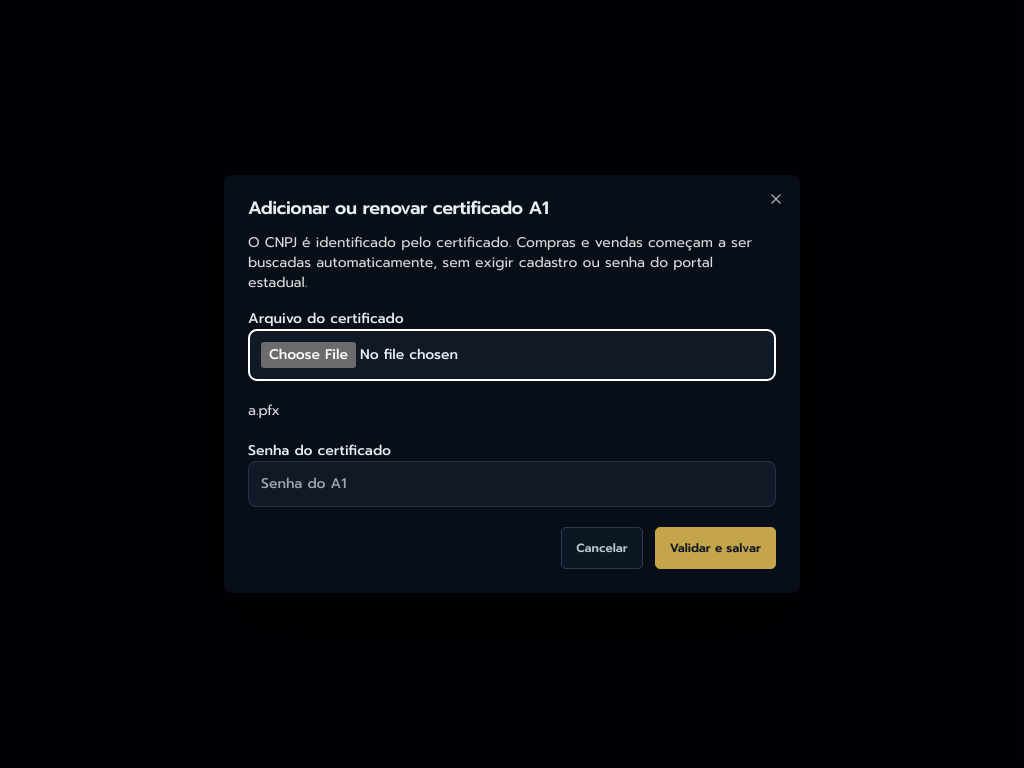
Test: extrator: importação e conta › arquivo grande é bloqueado localmente
Earlier steps of the test are not shown.
In the password field labelled "Senha do certificado": (512, 484) left=248, top=461, right=776, bottom=507, type "test"
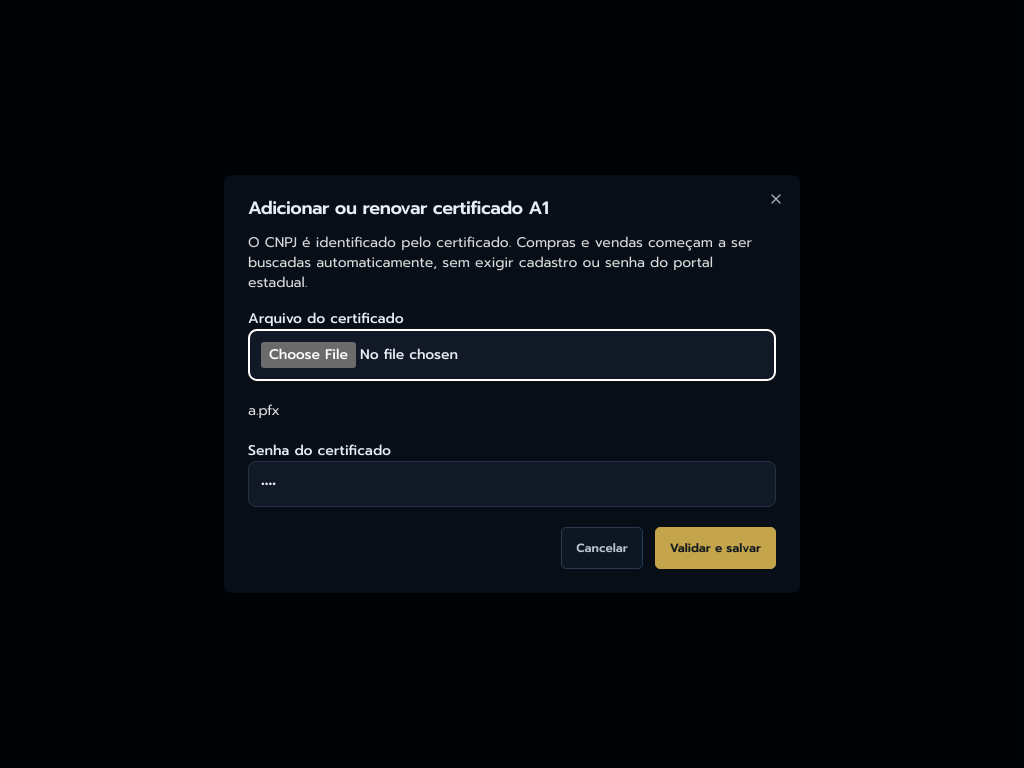
Click the button "Validar e salvar": click(715, 548) left=655, top=527, right=776, bottom=569
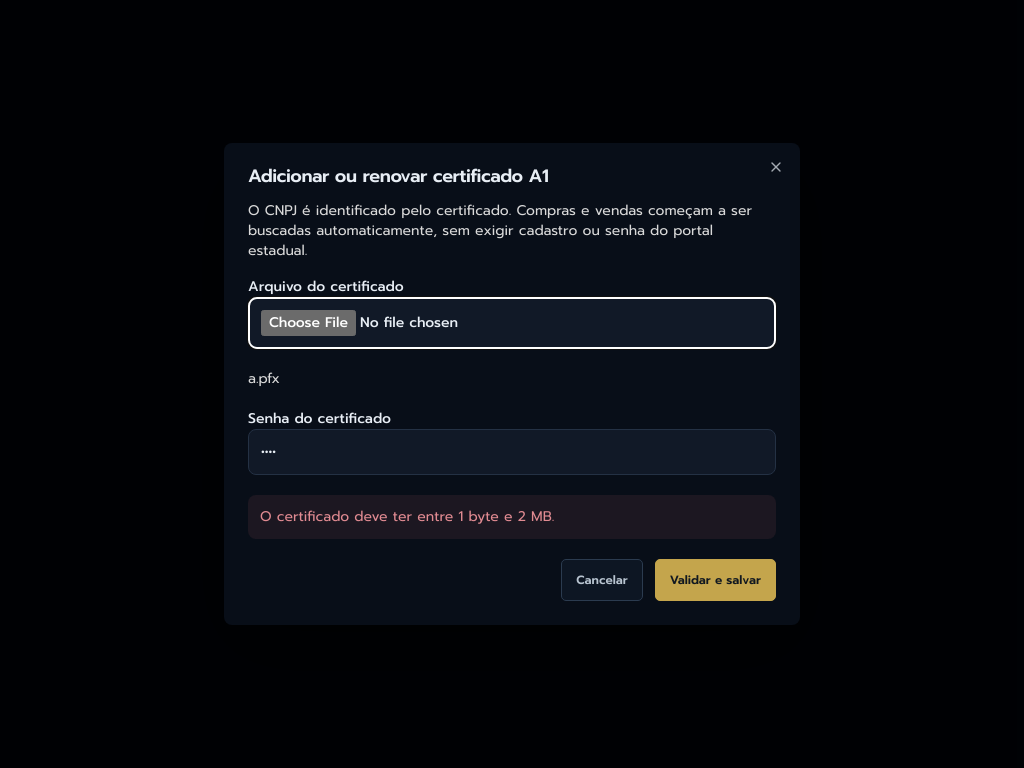
Expected: the message shows "2 MB", left=260, top=506, right=554, bottom=527
